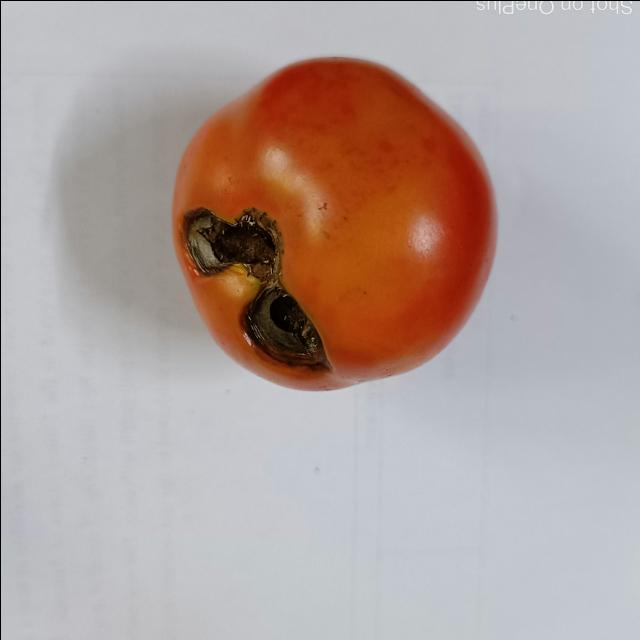Anthrocnose: (187, 201, 334, 367)
